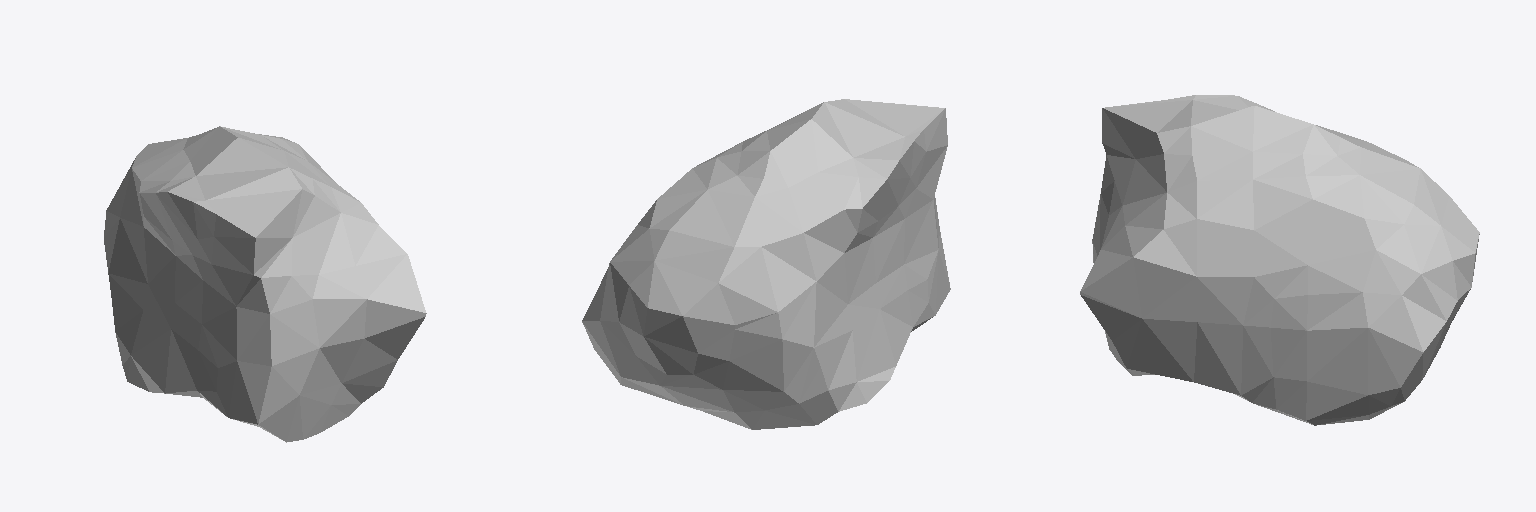
Rendered from test-rock3.obj.
The picture shows the model from 3 angles: view 1: azimuth 30°, elevation 25°; view 2: azimuth 150°, elevation 25°; view 3: azimuth 270°, elevation 25°; orthographic projection.
Parts seen in each view (by area): view 1: Rock3; view 2: Rock3; view 3: Rock3.
Boxes of the visible parts, x1=… form: Rock3: x1=104, y1=126, x2=426, y2=442; Rock3: x1=582, y1=99, x2=950, y2=429; Rock3: x1=1080, y1=95, x2=1479, y2=425.
Bounding box in the file's own units: 2.64 × 3 × 4.01.